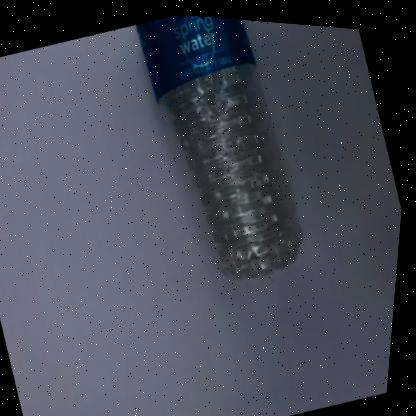Plastic: (136, 11, 305, 273)
